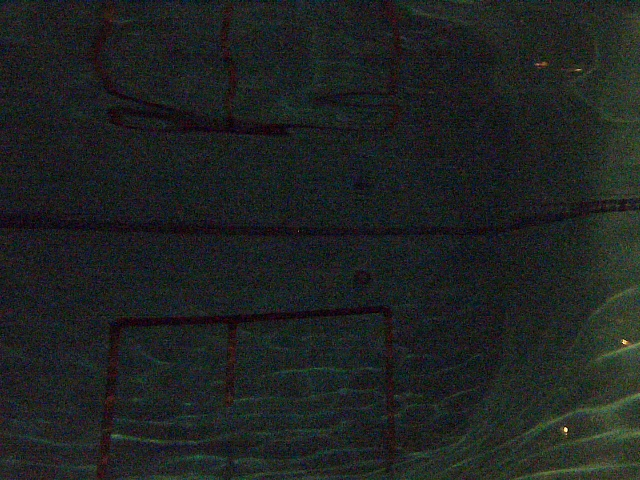Gate: (94, 331, 122, 479), (380, 312, 400, 471), (224, 324, 237, 406)
